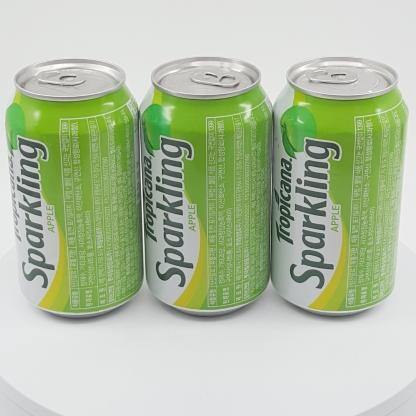-------------355ML: (4, 58, 144, 319), (270, 56, 409, 316), (139, 56, 273, 317)
